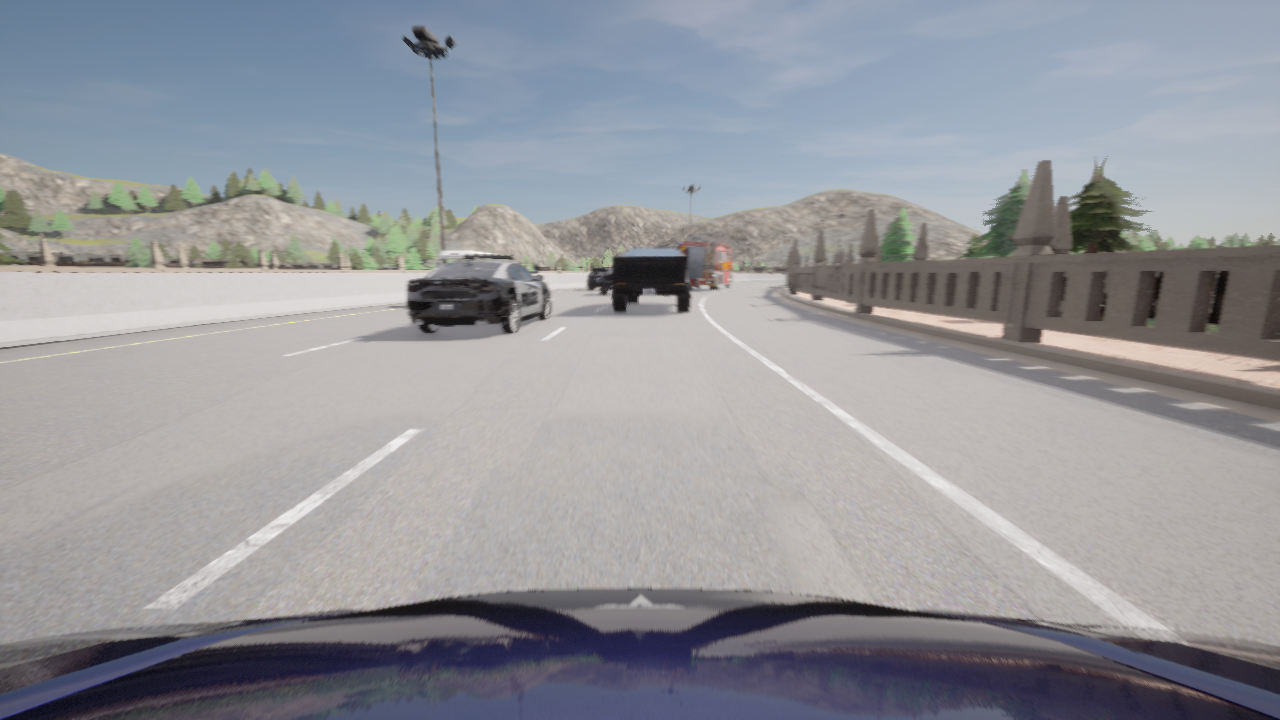cyclist: (0, 588, 1279, 719), (407, 254, 550, 333), (612, 248, 690, 311), (677, 234, 736, 290), (434, 250, 513, 269), (588, 268, 612, 289), (600, 269, 613, 294)
